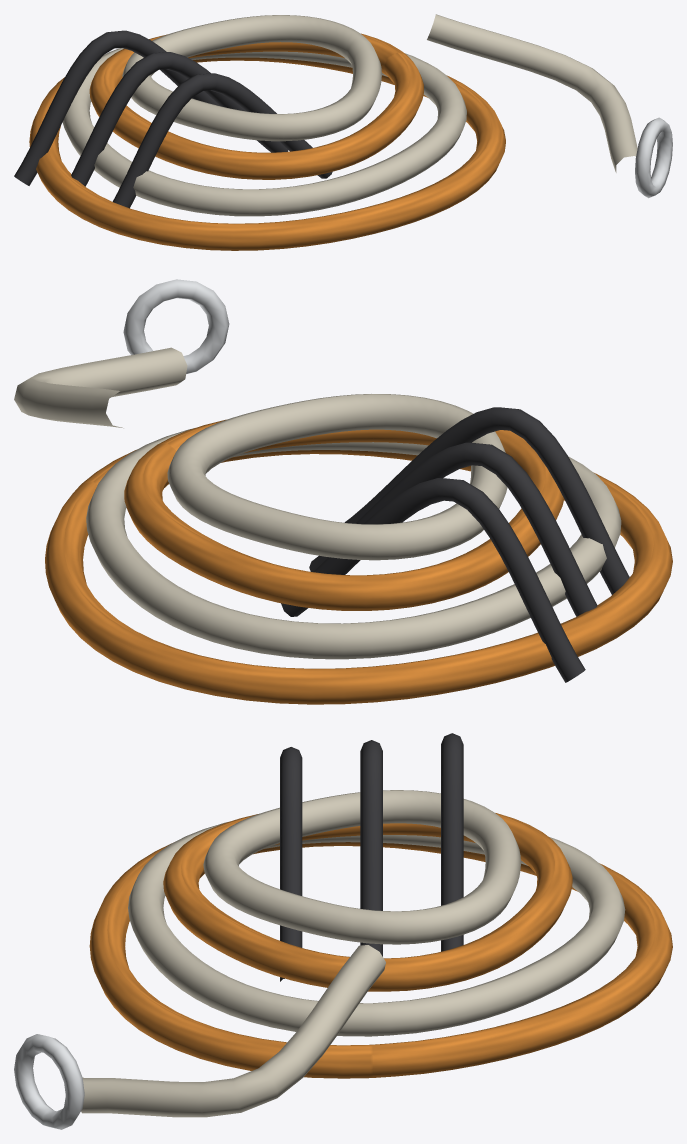
The model's file is arctic-station-fps-kit-rope-coil-4a6141bb__28538.glb.
3 views of the same model, one above another, from view 1: azimuth 30°, elevation 25°; view 2: azimuth 150°, elevation 25°; view 3: azimuth 270°, elevation 25° (orthographic). The views are drawn at different scales.
Visible parts, largest first — view 1: rope-coil; view 2: rope-coil; view 3: rope-coil.
Boxes of the visible parts, x1,y1,x2,y2 form: rope-coil: (14, 14, 672, 250); rope-coil: (14, 279, 672, 704); rope-coil: (14, 733, 672, 1129).
Size of the model in its own units: 0.8971 by 0.2257 by 0.8179.
4 materials, 1 textured.
